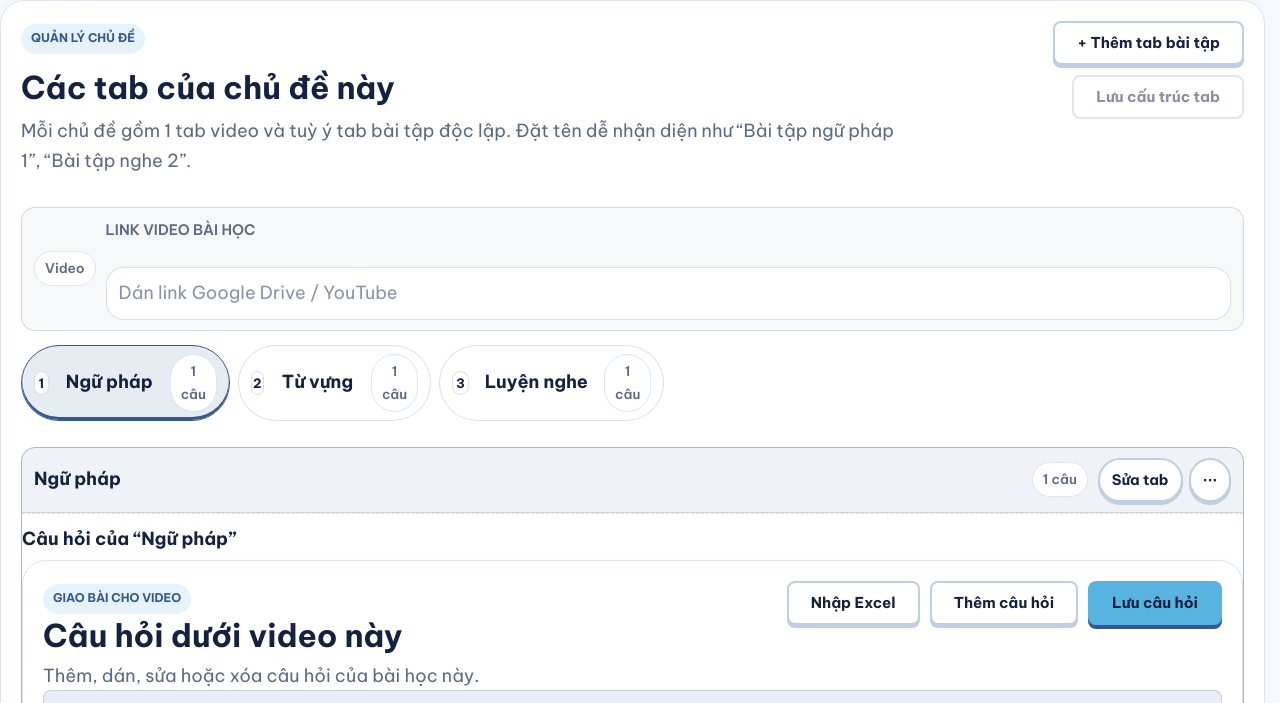
Test case: LessonTabManager — bấm tab nào hiện đúng tab đó › bấm chip nào thì khung dưới đổi sang đúng tab đó
The image size is (1280, 703).
Click the tab with class "lesson-tab-manager__chip" showing "3 Luyện nghe 1 câu" at (552, 383), box [439,345,664,420]
(page scrolled)
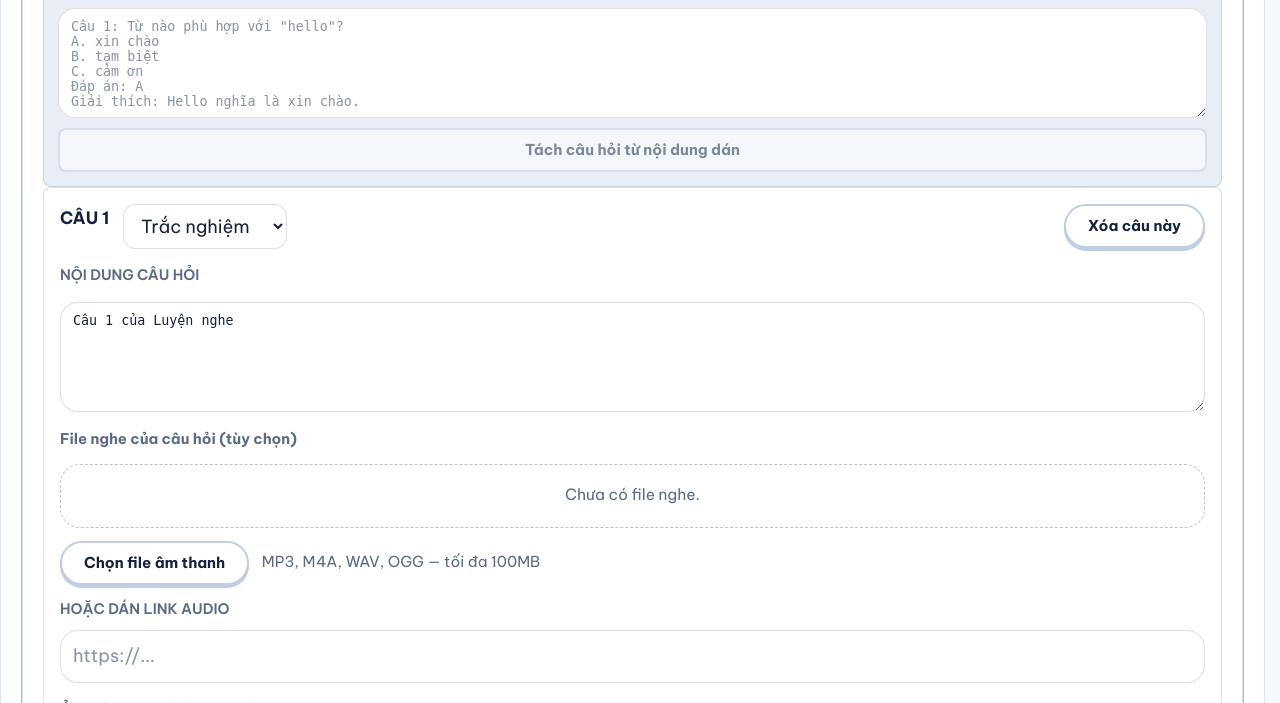
Check: the text box showing "Câu 1 của Luyện nghe" is shown, box [60,302,1205,412]
